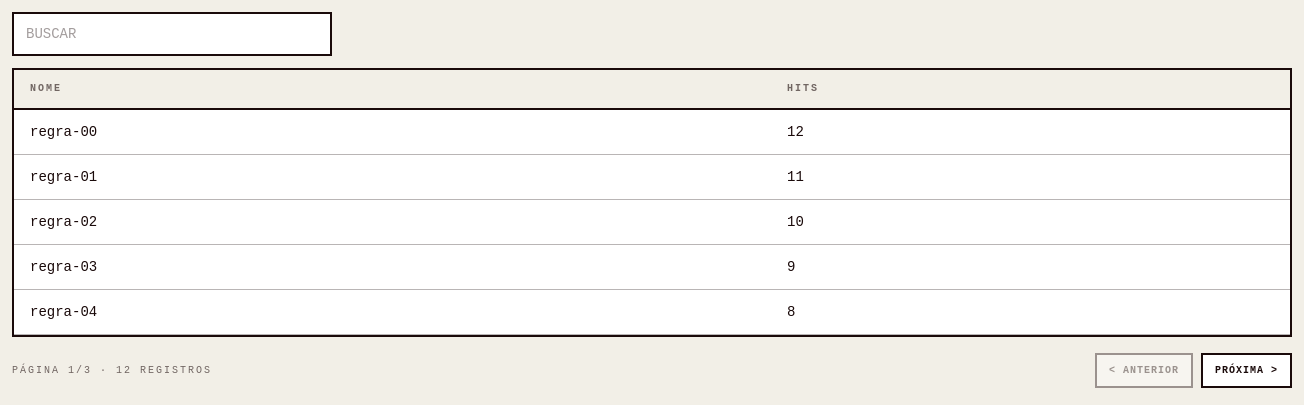
Test: DataTable › a busca filtra as linhas e o total acompanha
Type "regra-01" into the field with placeholder "BUSCAR".
click(172, 34); type("regra-01")  # box [12,12,332,56]
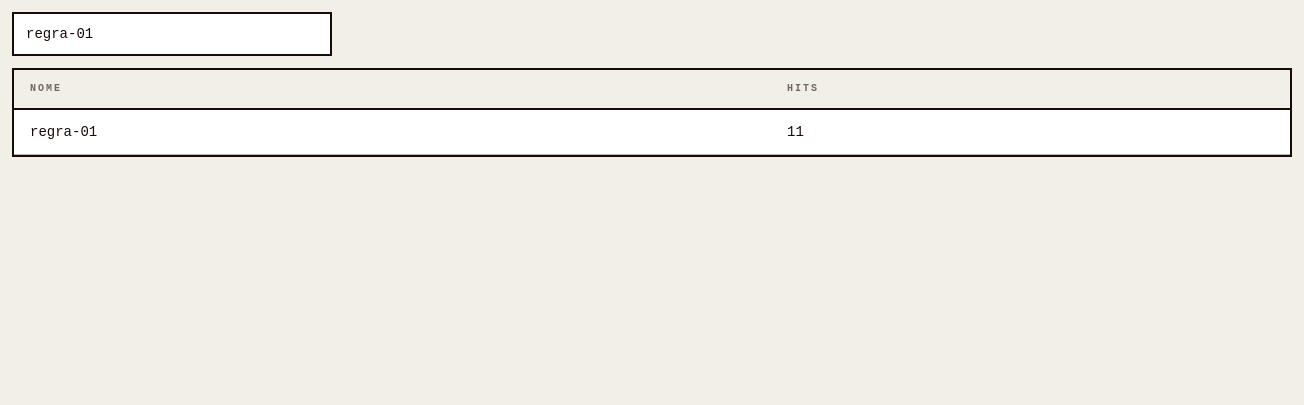
Expected: the text "regra-01" is shown, [14,109,771,155]
Expected: the text "regra-02" is gone
